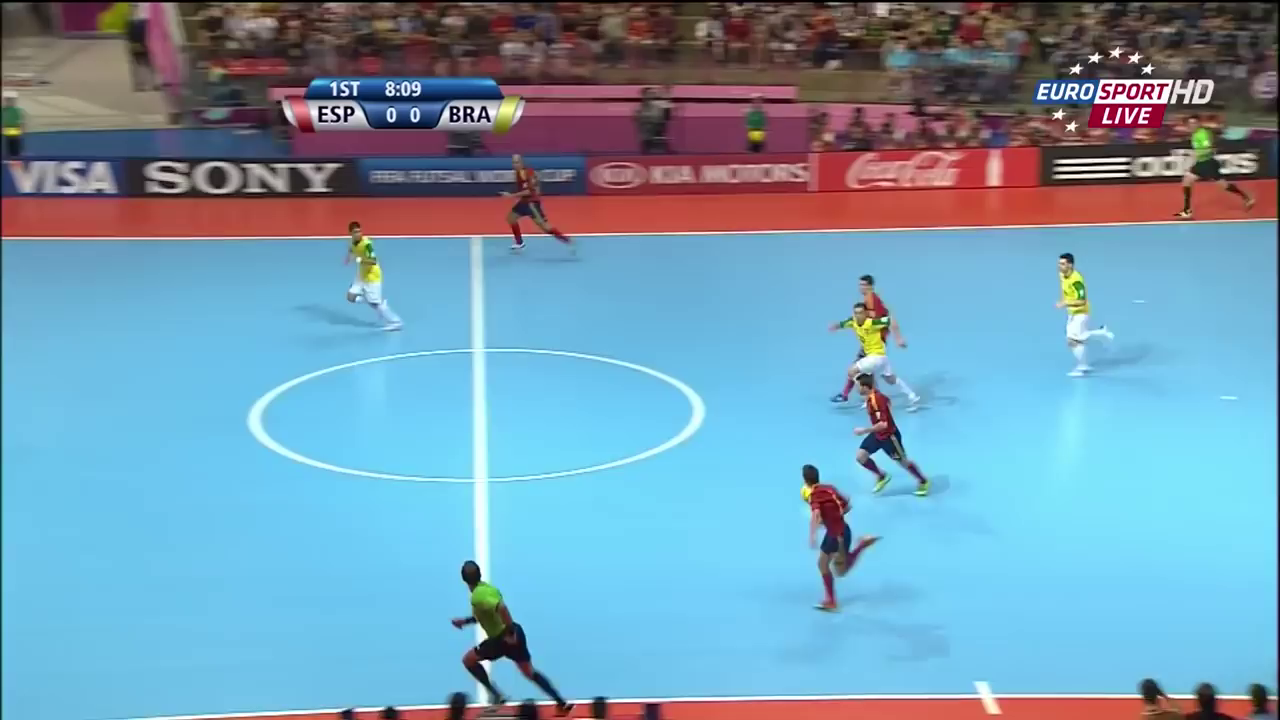ball: (798, 483, 822, 504)
person: (795, 463, 884, 617), (847, 373, 936, 498), (830, 304, 920, 411), (1044, 253, 1113, 384), (491, 153, 571, 252), (331, 222, 403, 331), (850, 276, 895, 342)
